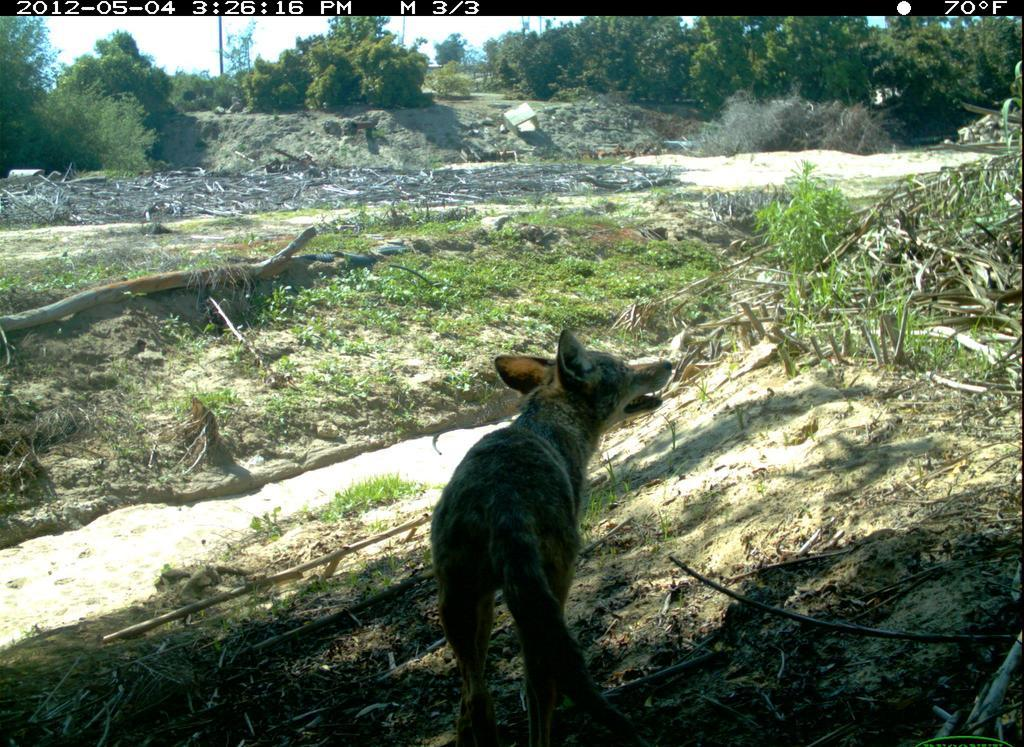coyote: (405, 319, 702, 720)
